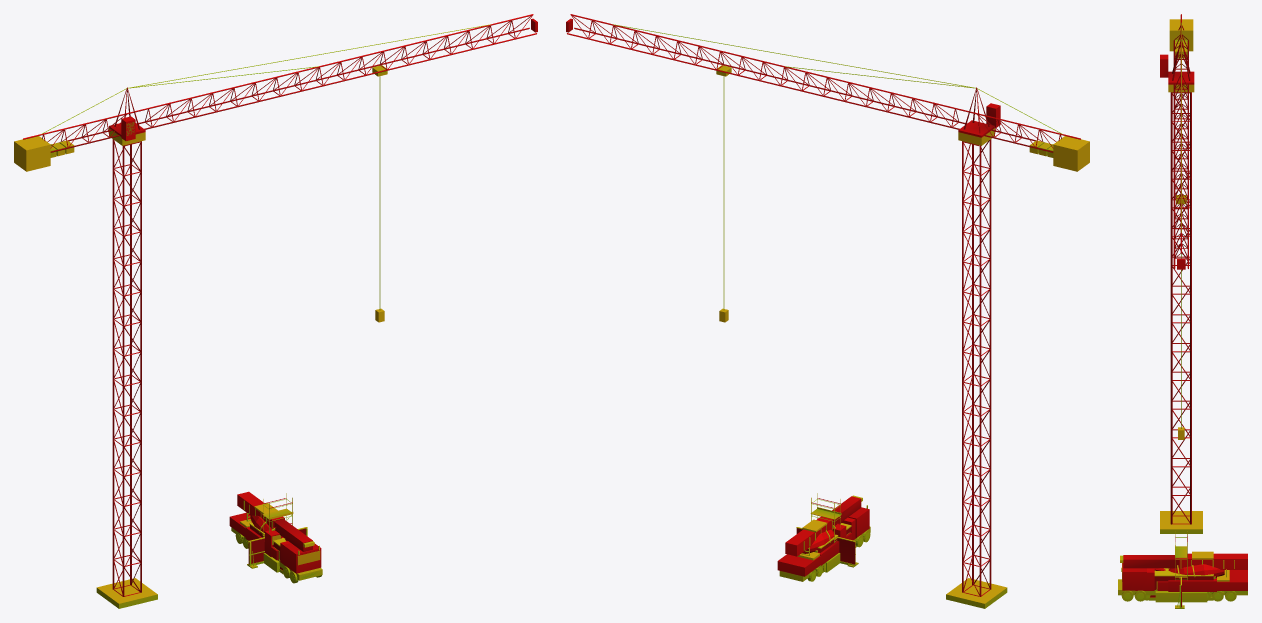
Rendered from construction.glb.
3 views of the same model, side by side, from view 1: azimuth 30°, elevation 25°; view 2: azimuth 150°, elevation 25°; view 3: azimuth 270°, elevation 25° (orthographic). The views are drawn at different scales.
Visible parts, largest first — view 1: construction__tower_crane__LOD0, construction__mobile_crane__LOD0, construction__excavator__LOD0; view 2: construction__tower_crane__LOD0, construction__mobile_crane__LOD0, construction__excavator__LOD0; view 3: construction__tower_crane__LOD0, construction__mobile_crane__LOD0, construction__excavator__LOD0, construction__cement_mixer__LOD0, construction__site_cabin__LOD0, construction__scaffold_bay__LOD0.
Boxes of the visible parts, x1=… form: construction__tower_crane__LOD0: x1=14, y1=14, x2=537, y2=608; construction__mobile_crane__LOD0: x1=229, y1=491, x2=322, y2=583; construction__excavator__LOD0: x1=240, y1=519, x2=287, y2=572; construction__tower_crane__LOD0: x1=566, y1=14, x2=1089, y2=608; construction__mobile_crane__LOD0: x1=777, y1=495, x2=870, y2=581; construction__excavator__LOD0: x1=797, y1=522, x2=846, y2=572; construction__tower_crane__LOD0: x1=1160, y1=14, x2=1202, y2=533; construction__mobile_crane__LOD0: x1=1118, y1=551, x2=1247, y2=601; construction__excavator__LOD0: x1=1154, y1=568, x2=1229, y2=602; construction__cement_mixer__LOD0: x1=1135, y1=564, x2=1226, y2=600; construction__site_cabin__LOD0: x1=1149, y1=568, x2=1213, y2=600; construction__scaffold_bay__LOD0: x1=1175, y1=531, x2=1187, y2=580.
Size of what is drawn, in the model's own units: 53 by 50 by 12.1.
